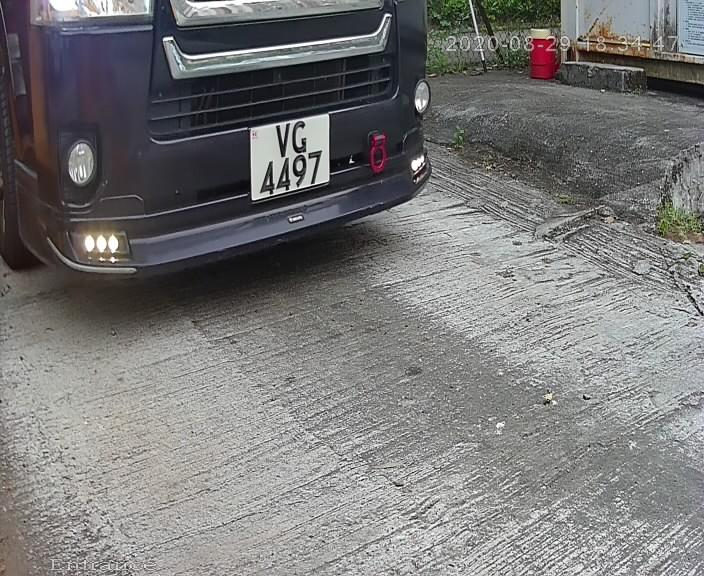License Plate: (236, 106, 340, 206)
